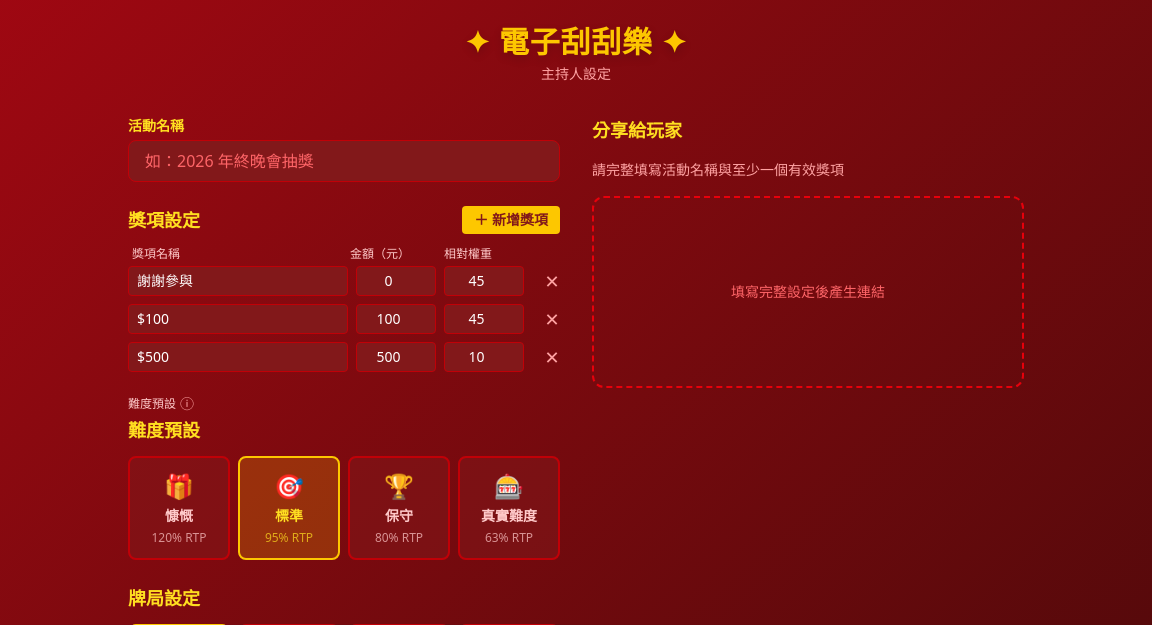
Test: HostPage › 點擊刪除獎項應移除該列
Click the button named "刪除獎項".
click(552, 281)  # box [532,272,572,290]
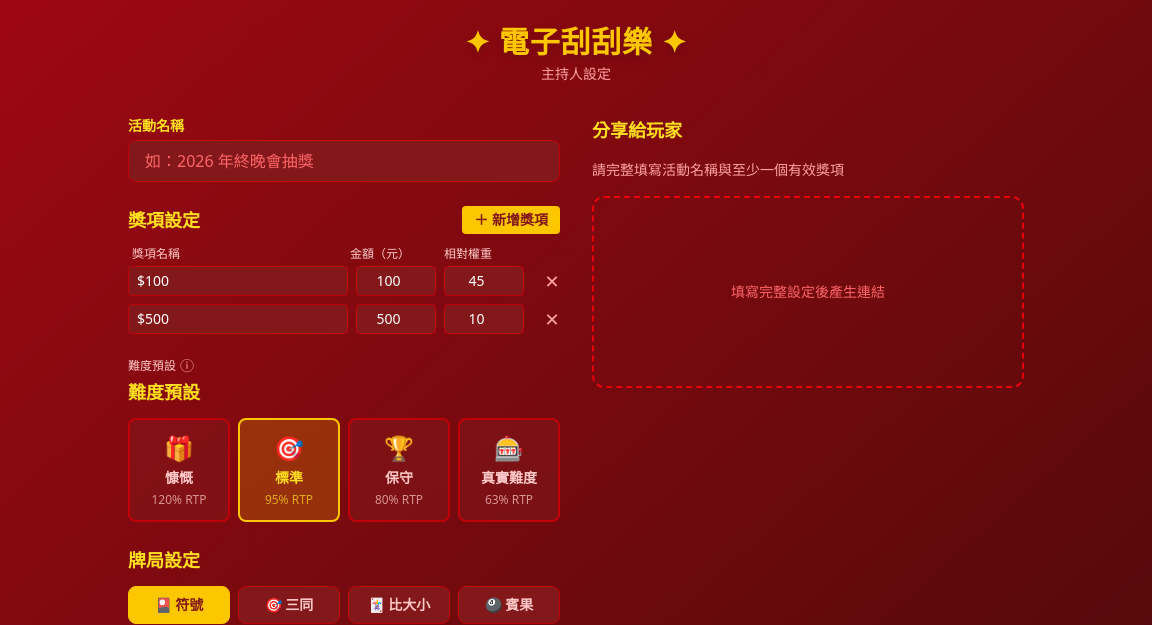
expect the number of fields named "獎項名稱" is 2: met, box [128,266,348,296]; [128,304,348,334]
